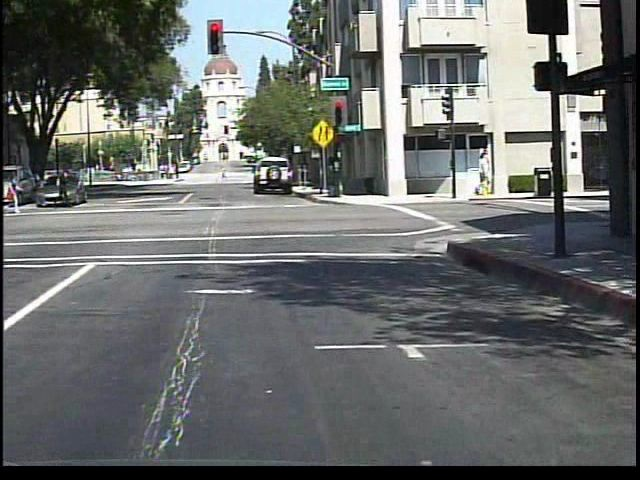person: (54, 166, 78, 210), (6, 168, 26, 220), (223, 165, 233, 182)
